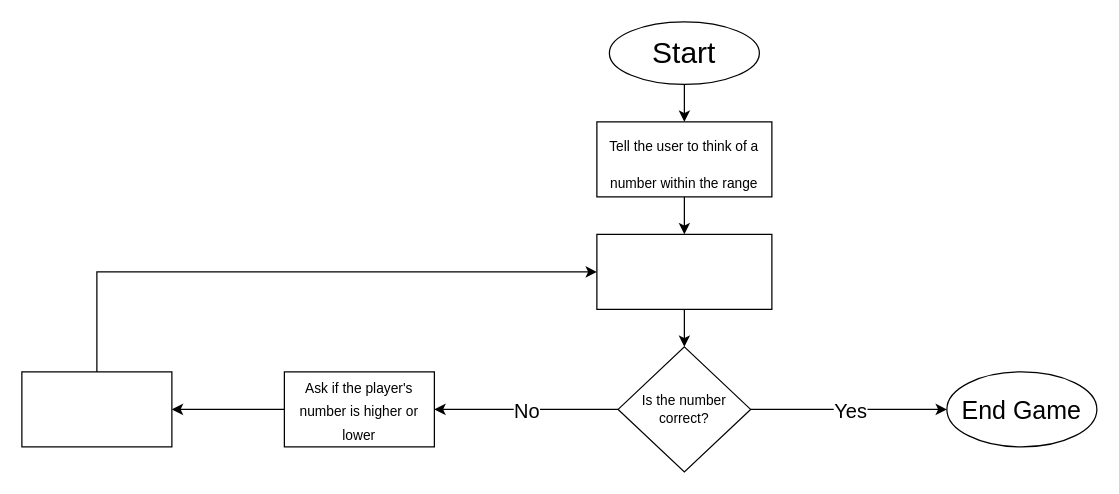
Some shapes in this 1119 by 494 pixel diagram are drawn without their labels. The shapes that lost their labels are listed below. From the top down, each one's centre as x and y in pixels, then its label:
At point 684,271: "Select a random number within the range".
At point 96,409: "Update range".
